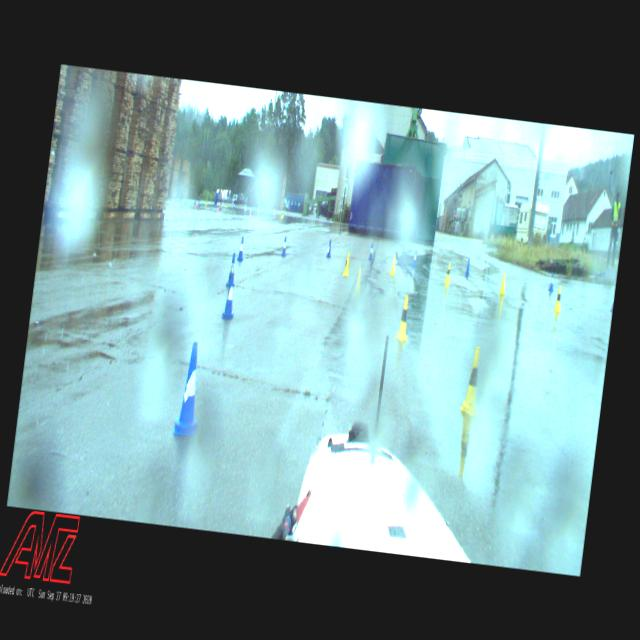blue_cone: (173, 341, 206, 437), (220, 273, 238, 321), (226, 252, 237, 288), (237, 237, 245, 262), (280, 235, 288, 258), (548, 272, 555, 292), (464, 256, 471, 276), (368, 240, 374, 262), (326, 238, 332, 258), (411, 249, 417, 268)
yellow_cone: (458, 347, 486, 418), (395, 293, 412, 341), (352, 267, 363, 302), (554, 284, 564, 312), (498, 272, 508, 296), (342, 251, 351, 277), (443, 260, 452, 285), (390, 252, 397, 276), (282, 208, 284, 219)
